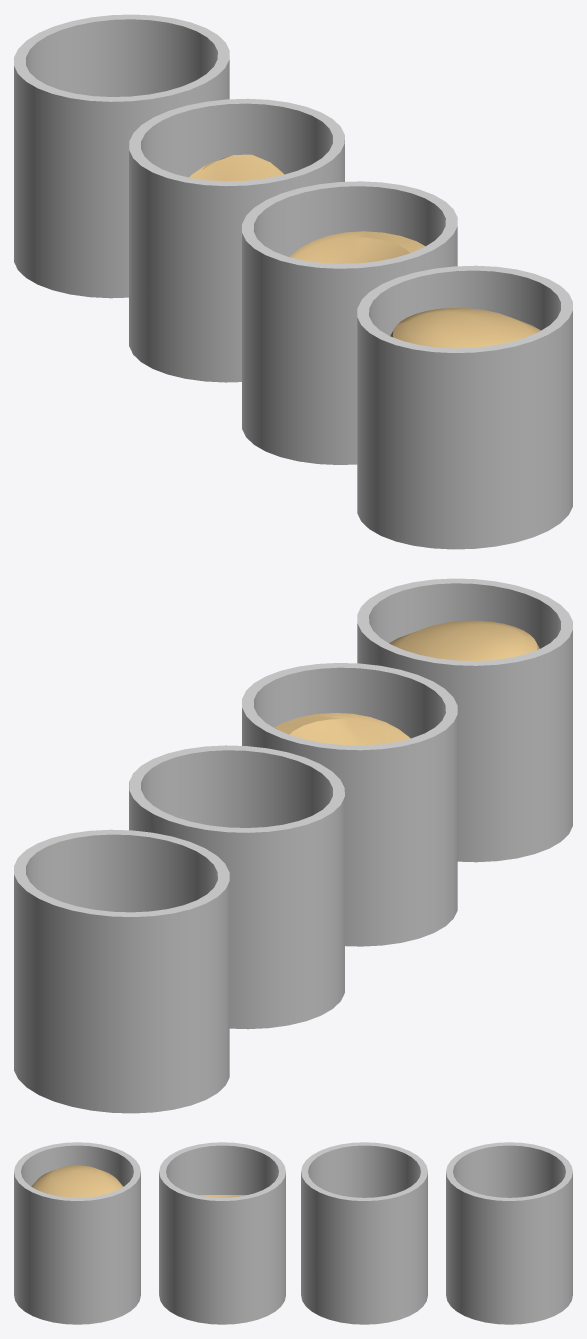
File: sloiki_z_piaskiem.fbx
3 views of the same model, one above another, from view 1: azimuth 30°, elevation 25°; view 2: azimuth 150°, elevation 25°; view 3: azimuth 270°, elevation 25° (orthographic). The views are drawn at different scales.
Parts seen in each view (by area): view 1: pepperonni, mario, pizza margharitta, peppe pan dziobbak; view 2: pizza margharitta, pepperonni, peppe pan dziobbak, mario; view 3: peppe pan dziobbak, mario, pepperonni, pizza margharitta.
Part boxes in pixels (x1,y1,x2,y2): pepperonni: (357, 265, 572, 549); mario: (242, 181, 457, 464); pizza margharitta: (14, 14, 229, 298); peppe pan dziobbak: (129, 98, 344, 382); pizza margharitta: (14, 829, 229, 1113); pepperonni: (357, 578, 572, 862); peppe pan dziobbak: (129, 745, 344, 1029); mario: (242, 663, 457, 946); peppe pan dziobbak: (301, 1142, 427, 1324); mario: (159, 1142, 285, 1324); pepperonni: (14, 1142, 140, 1324); pizza margharitta: (446, 1142, 572, 1324).
Bounding box in the file's own units: 22.2 × 21.72 × 89.07.
